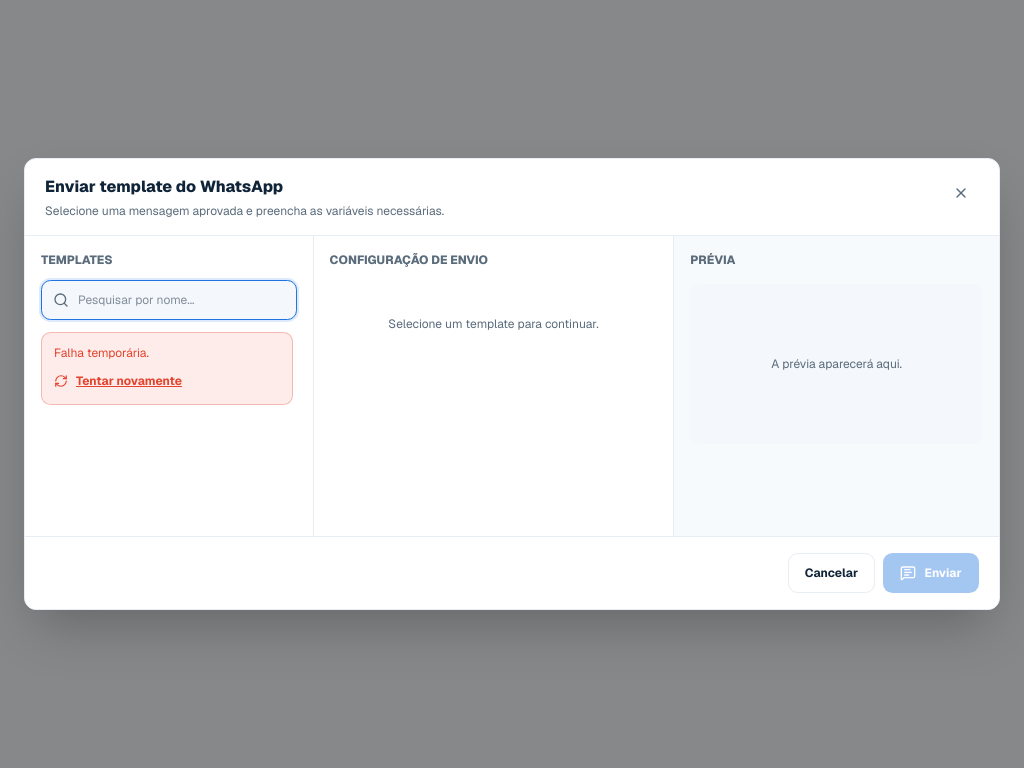
Test: WhatsappTemplateDialog › should_offer_retry_and_render_empty_state
Step 1. Click the button "Tentar novamente" → [118, 381], box left=54, top=373, right=182, bottom=389
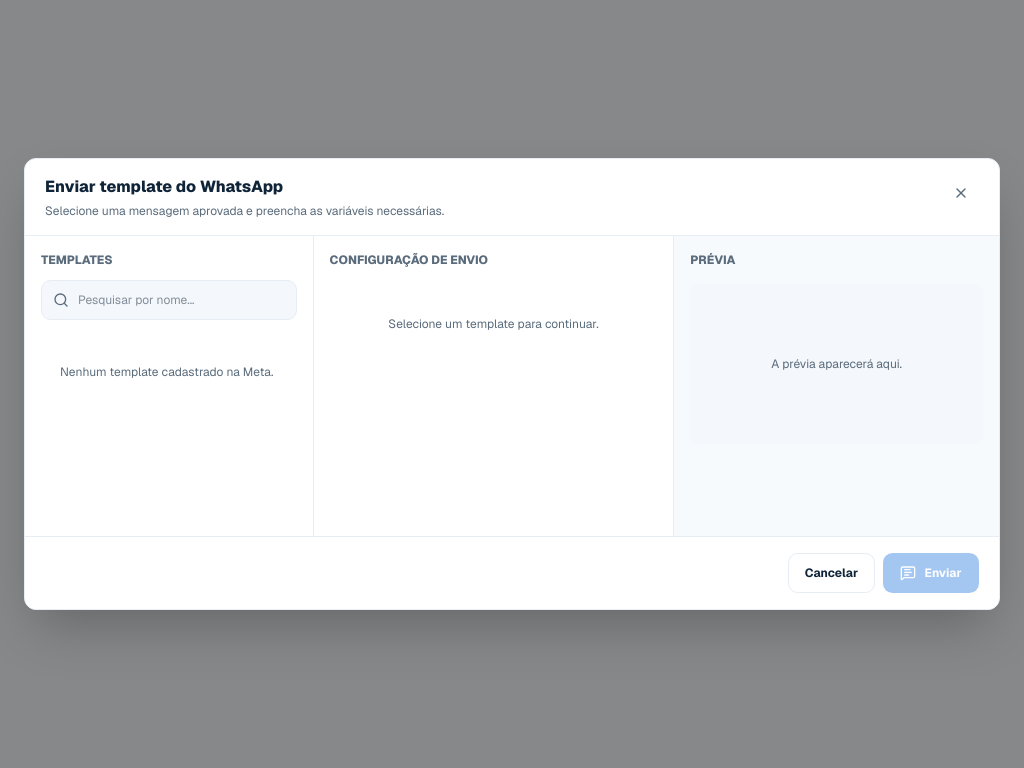
Expected: the text "Nenhum template cadastrado na Meta." is shown, left=60, top=364, right=274, bottom=380
